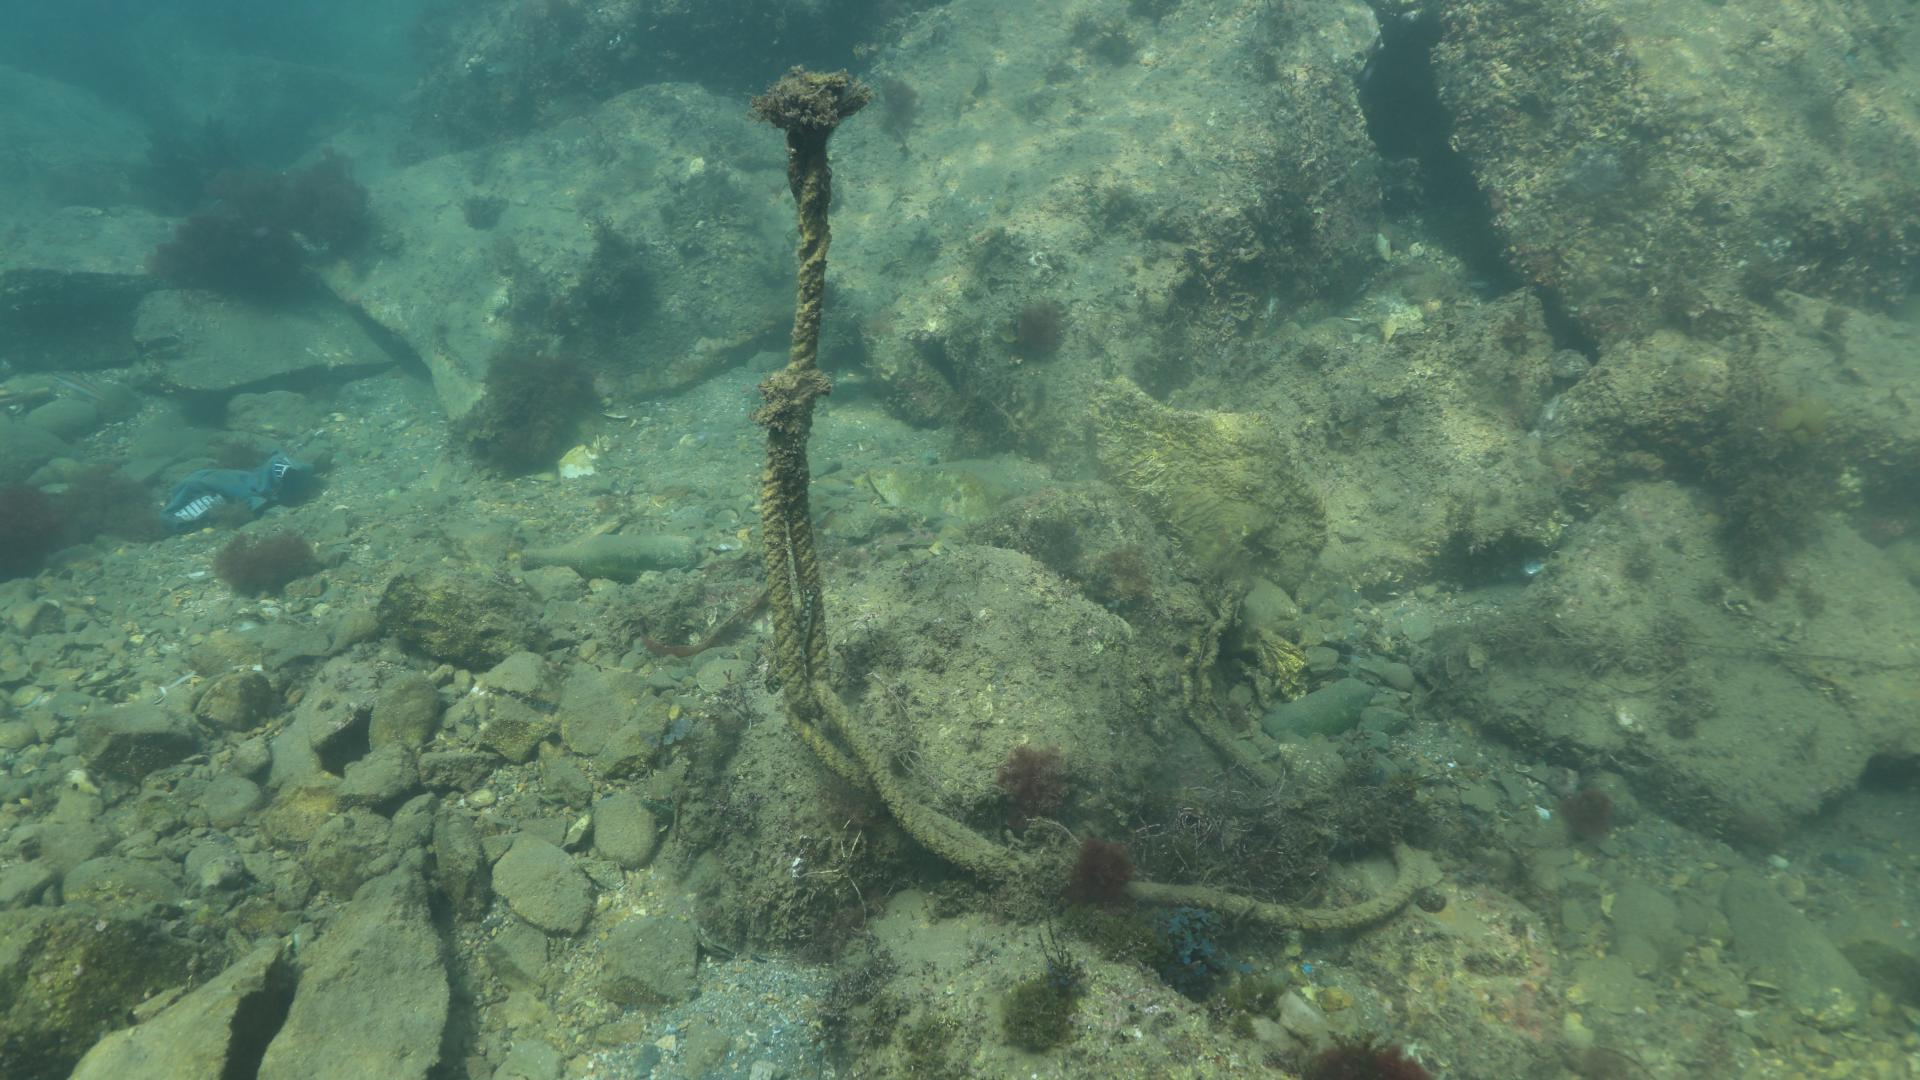bundle of ropes: (758, 153, 1423, 935)
